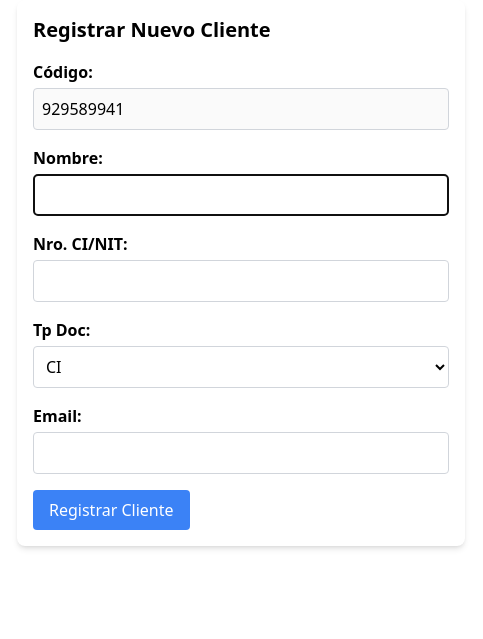
App tests › shows an error if the email format is invalid
Type "invalid-email" into the field labelled "Email:" at (241, 453), box [33,432,449,474]
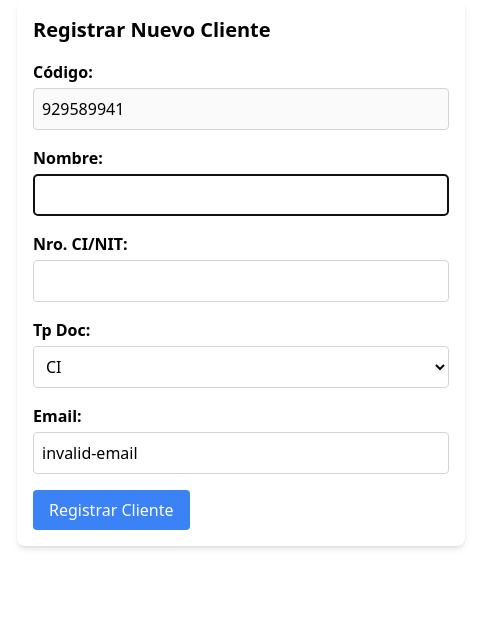
Click the button "Registrar Cliente" at (111, 510), box [33,490,190,530]
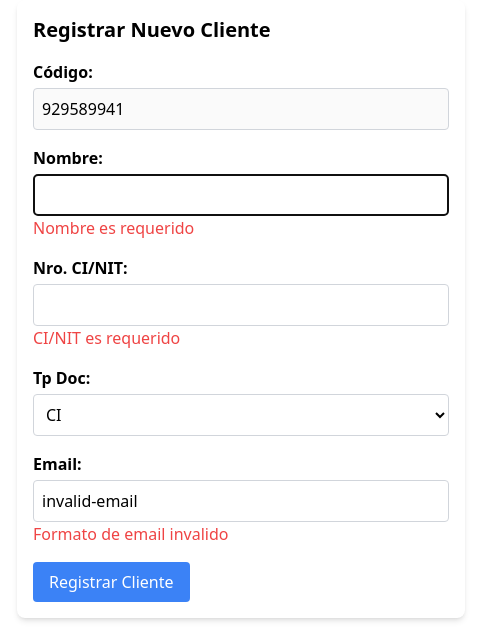
Now the text "Formato de email invalido" is shown, box [33,523,228,545]
